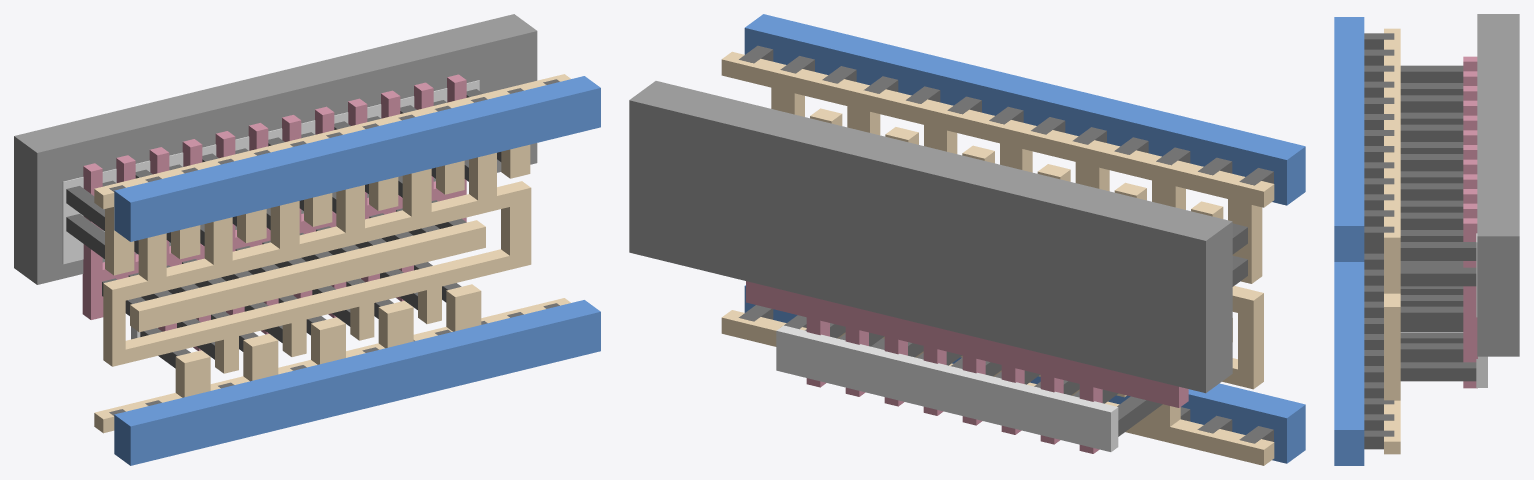
The model's file is sky130_fd_sc_hd__clkinv_8.gds.gltf.
The picture shows the model from 3 angles, left to right: view 1: azimuth 30°, elevation 25°; view 2: azimuth 150°, elevation 25°; view 3: azimuth 270°, elevation 25°; orthographic projection. The views are drawn at different scales.
Visible parts, largest first — view 1: sky130_fd_sc_hd__clkinv_8_li1, sky130_fd_sc_hd__clkinv_8_met1, sky130_fd_sc_hd__clkinv_8_nwell, sky130_fd_sc_hd__clkinv_8_poly, sky130_fd_sc_hd__clkinv_8_licon, sky130_fd_sc_hd__clkinv_8_diff, sky130_fd_sc_hd__clkinv_8_mcon; view 2: sky130_fd_sc_hd__clkinv_8_nwell, sky130_fd_sc_hd__clkinv_8_li1, sky130_fd_sc_hd__clkinv_8_met1, sky130_fd_sc_hd__clkinv_8_diff, sky130_fd_sc_hd__clkinv_8_poly, sky130_fd_sc_hd__clkinv_8_mcon, sky130_fd_sc_hd__clkinv_8_licon; view 3: sky130_fd_sc_hd__clkinv_8_licon, sky130_fd_sc_hd__clkinv_8_nwell, sky130_fd_sc_hd__clkinv_8_met1, sky130_fd_sc_hd__clkinv_8_mcon, sky130_fd_sc_hd__clkinv_8_li1, sky130_fd_sc_hd__clkinv_8_poly, sky130_fd_sc_hd__clkinv_8_diff.
Part boxes in pixels (<box>): sky130_fd_sc_hd__clkinv_8_li1: <box>94,74,570,433</box>; sky130_fd_sc_hd__clkinv_8_met1: <box>114,76,600,465</box>; sky130_fd_sc_hd__clkinv_8_nwell: <box>14,14,537,284</box>; sky130_fd_sc_hd__clkinv_8_poly: <box>82,74,466,350</box>; sky130_fd_sc_hd__clkinv_8_licon: <box>66,89,501,368</box>; sky130_fd_sc_hd__clkinv_8_diff: <box>62,80,479,339</box>; sky130_fd_sc_hd__clkinv_8_mcon: <box>109,79,559,415</box>; sky130_fd_sc_hd__clkinv_8_nwell: <box>629,81,1232,393</box>; sky130_fd_sc_hd__clkinv_8_li1: <box>721,51,1274,465</box>; sky130_fd_sc_hd__clkinv_8_met1: <box>744,14,1305,463</box>; sky130_fd_sc_hd__clkinv_8_diff: <box>776,325,1118,451</box>; sky130_fd_sc_hd__clkinv_8_poly: <box>746,281,1188,453</box>; sky130_fd_sc_hd__clkinv_8_mcon: <box>739,45,1273,443</box>; sky130_fd_sc_hd__clkinv_8_licon: <box>805,223,1247,436</box>; sky130_fd_sc_hd__clkinv_8_licon: <box>1400,65,1476,381</box>; sky130_fd_sc_hd__clkinv_8_nwell: <box>1477,14,1519,356</box>; sky130_fd_sc_hd__clkinv_8_met1: <box>1334,17,1364,465</box>; sky130_fd_sc_hd__clkinv_8_mcon: <box>1364,33,1394,449</box>; sky130_fd_sc_hd__clkinv_8_li1: <box>1384,28,1400,454</box>; sky130_fd_sc_hd__clkinv_8_poly: <box>1463,56,1477,388</box>; sky130_fd_sc_hd__clkinv_8_diff: <box>1476,233,1487,387</box>.
Bounding box in the file's own units: 6.36 × 3.2 × 2.24.
